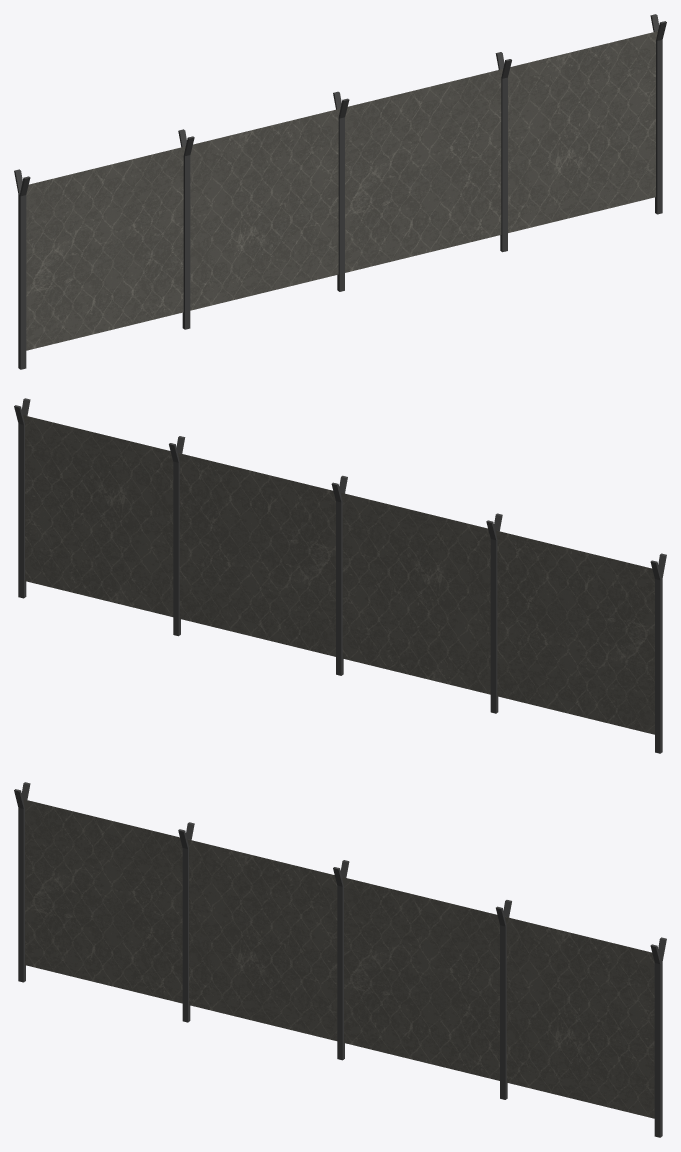
File: Fence.fbx
3 renders of one model, top to bottom at view 1: azimuth 30°, elevation 25°; view 2: azimuth 150°, elevation 25°; view 3: azimuth 330°, elevation 25°, orthographic.
Parts seen in each view (by area): view 1: Net, Fence-Rod; view 2: Net, Fence-Rod; view 3: Net, Fence-Rod.
Boxes of the visible parts, x1,y1,x2,y2 form: Net: (26, 31, 657, 350); Fence-Rod: (14, 14, 666, 369); Net: (23, 415, 654, 734); Fence-Rod: (14, 398, 666, 753); Net: (23, 799, 654, 1118); Fence-Rod: (14, 782, 666, 1137).
Bounding box in the file's own units: 9729 × 2812 × 291.
